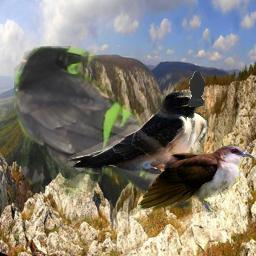Crow: (14, 46, 194, 209), (188, 71, 205, 107)
Cuckoo: (137, 99, 256, 216)
Swallow: (66, 91, 208, 175)
